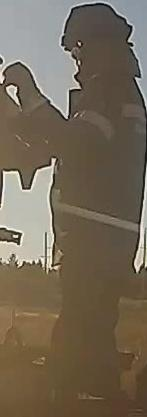gloves: (2, 58, 53, 118)
vest: (54, 89, 147, 275)
